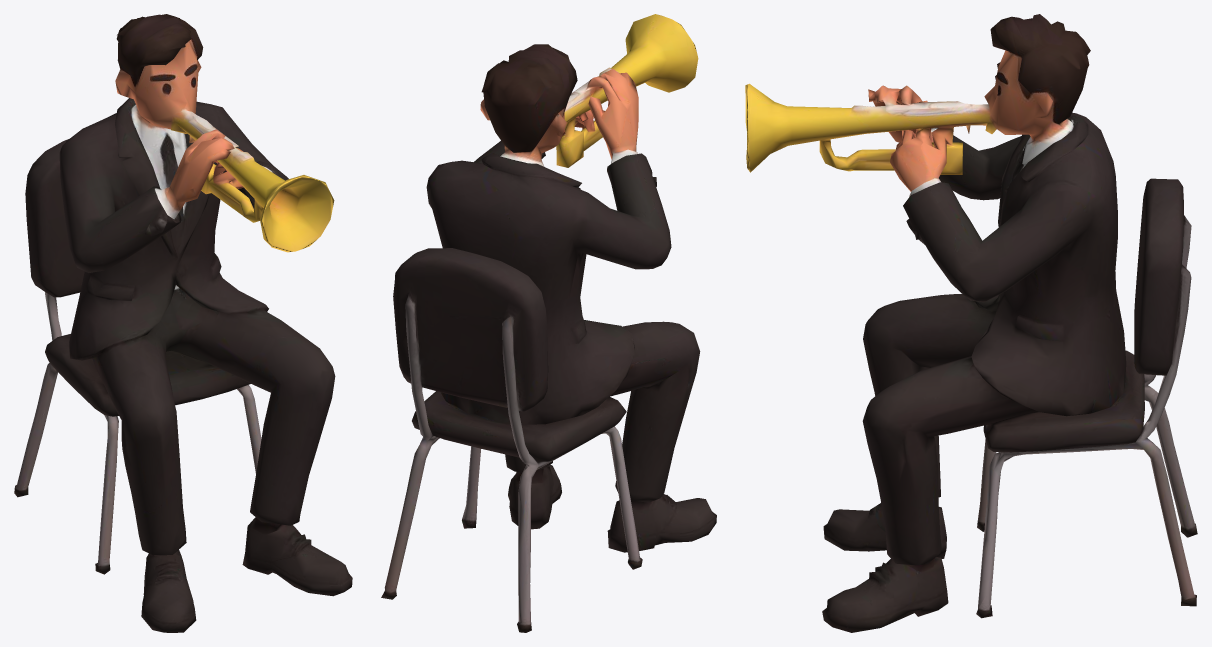
The model's file is trumpeter.glb.
3 renders of one model, left to right at view 1: azimuth 30°, elevation 25°; view 2: azimuth 150°, elevation 25°; view 3: azimuth 270°, elevation 25°, orthographic. The views are drawn at different scales.
Visible parts, largest first — view 1: tripo_node_4fc03876-aed7-4cfb-8b44-fd50fd97584f; view 2: tripo_node_4fc03876-aed7-4cfb-8b44-fd50fd97584f; view 3: tripo_node_4fc03876-aed7-4cfb-8b44-fd50fd97584f.
Part boxes in pixels (x1,y1,x2,y2): tripo_node_4fc03876-aed7-4cfb-8b44-fd50fd97584f: (14, 14, 352, 632); tripo_node_4fc03876-aed7-4cfb-8b44-fd50fd97584f: (381, 14, 716, 632); tripo_node_4fc03876-aed7-4cfb-8b44-fd50fd97584f: (745, 14, 1197, 632).
Size of the model in its own units: 0.5612 by 1.25 by 0.9142.
Materials: 1 (1 with a texture image).
